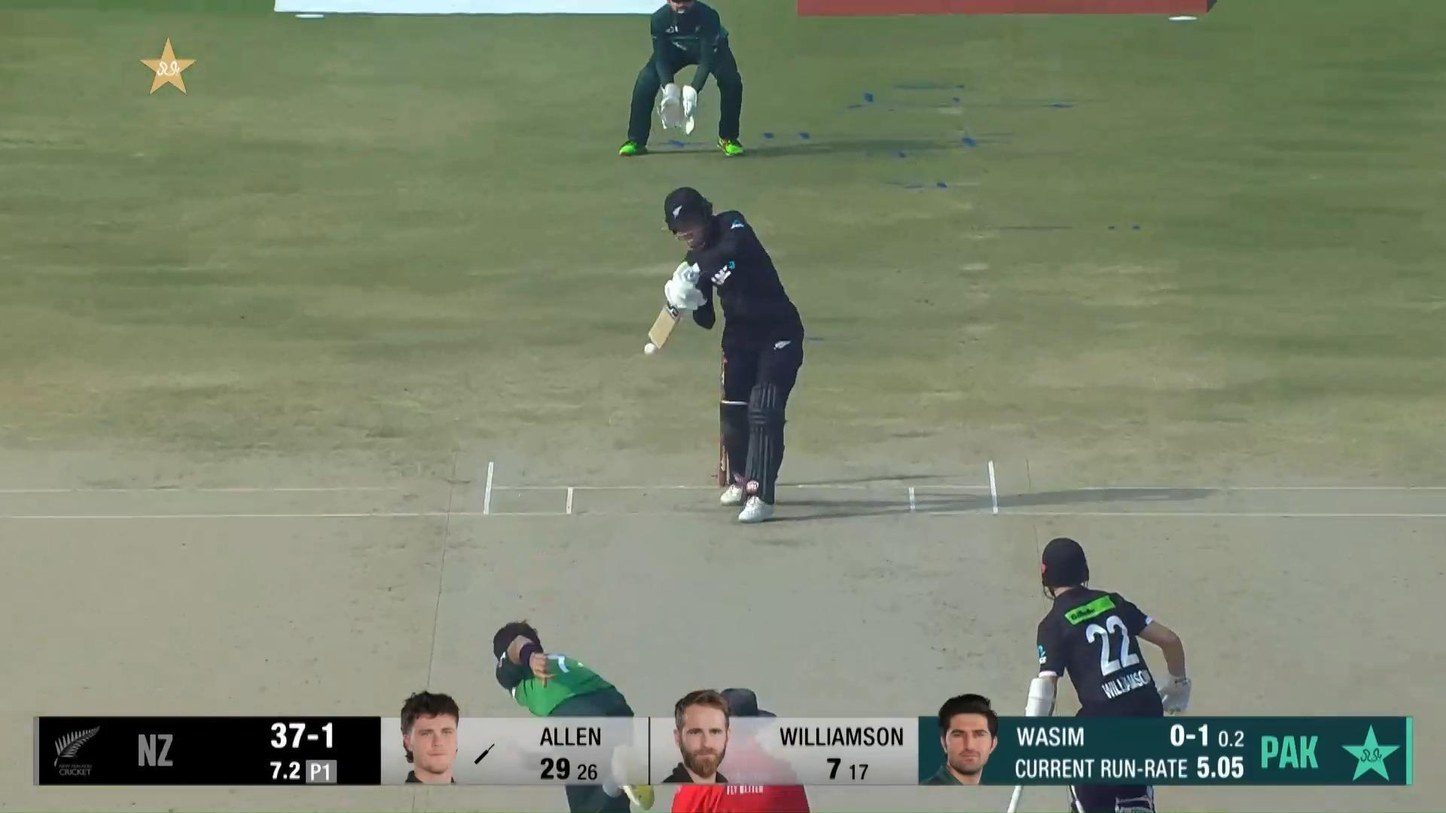BM 1: (647, 186, 805, 525)
BO: (490, 618, 658, 813)
